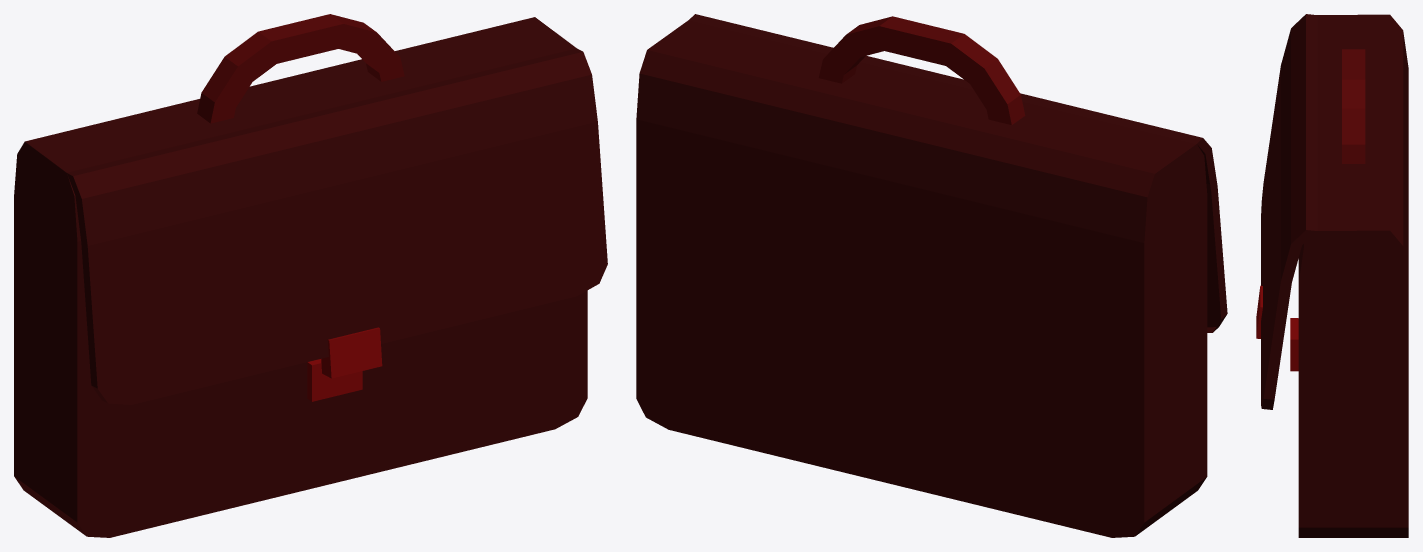
Rendered from SchoolBag.001.glb.
The picture shows the model from 3 angles, left to right: view 1: azimuth 30°, elevation 25°; view 2: azimuth 150°, elevation 25°; view 3: azimuth 270°, elevation 25°; orthographic projection. The views are drawn at different scales.
Visible parts, largest first — view 1: SchoolBag.001; view 2: SchoolBag.001; view 3: SchoolBag.001.
Boxes of the visible parts, x1,y1,x2,y2 form: SchoolBag.001: (14, 14, 607, 537); SchoolBag.001: (636, 14, 1227, 537); SchoolBag.001: (1256, 14, 1408, 537).
Bounding box in the file's own units: 2.92 × 2.37 × 0.8697.
